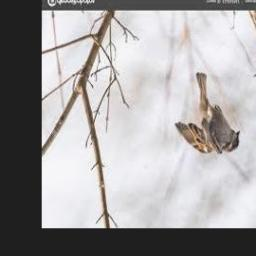Sparrow: (174, 73, 240, 154)
